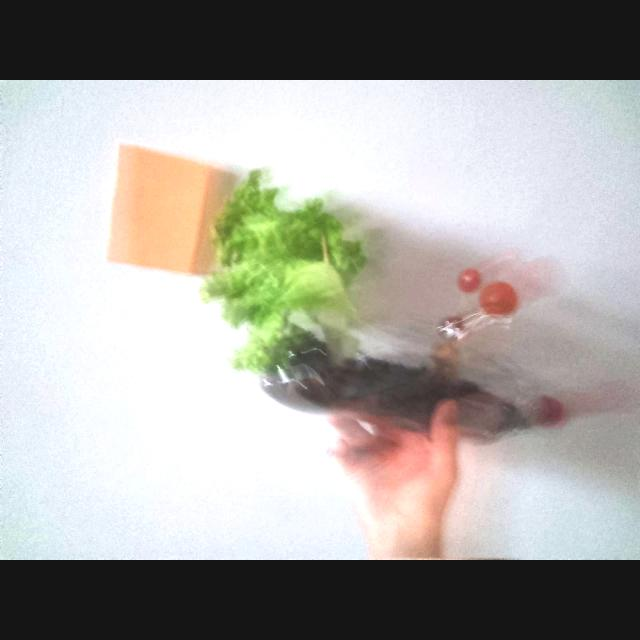fruit_maturation: (107, 146, 234, 274), (458, 269, 482, 293)
fully_grown: (479, 282, 518, 316)
